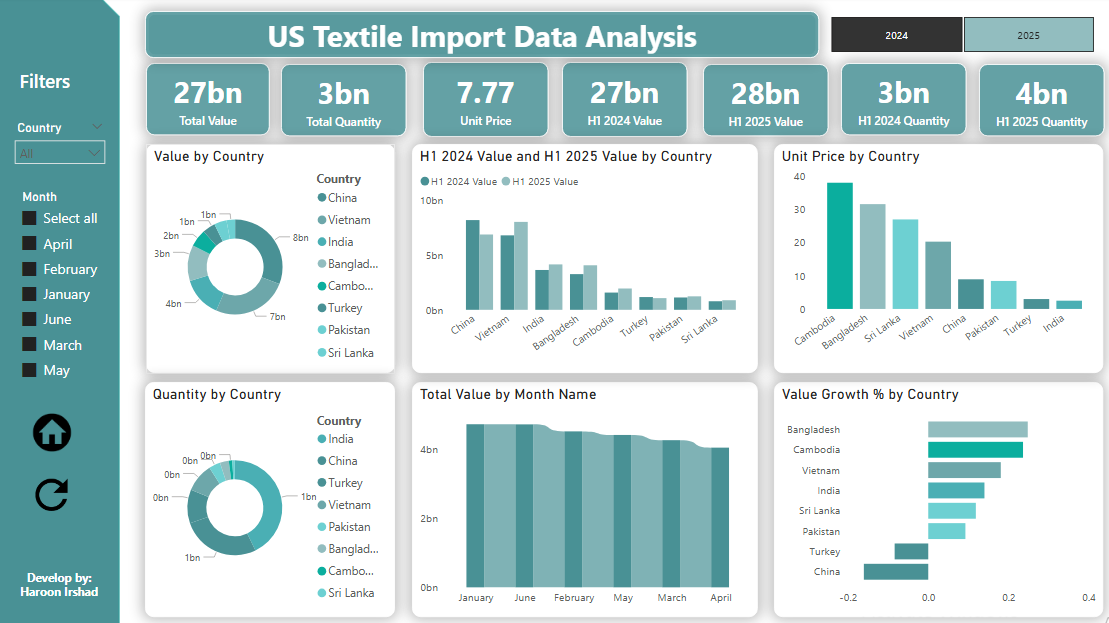

The page's visual inventory and layout, read from the dashboard file:
{"tool":"powerbi","page":{"name":"Page 1","canvas":[1280,720],"ordinal":0},"visuals":[{"type":"card","fields":{"Values":["Imports.Total Quantity"]},"box":[322.4,77.3,143.6,83],"z":0},{"type":"card","fields":{"Values":["Imports.Total Value"]},"box":[167.6,75.7,142,83],"z":1000},{"type":"card","fields":{"Values":["Imports.Unit Price"]},"box":[485.2,74.1,143.6,86.2],"z":2000},{"type":"card","fields":{"Values":["Imports.H1 2024 Value"]},"box":[645.7,74.1,143.6,86.2],"z":3000},{"type":"card","fields":{"Values":["Imports.H1 2025 Value"]},"box":[807.6,77.3,143.6,83],"z":4000},{"type":"card","fields":{"Values":["Imports.H1 2024 Quantity"]},"box":[965.6,75.7,143.6,83],"z":5000},{"type":"card","fields":{"Values":["Imports.H1 2025 Quantity"]},"box":[1123.6,77.3,143.6,83],"z":6000},{"type":"ribbonChart","fields":{"Category":["Imports.Month Name"],"Y":["All_Measure.Total Value"]},"box":[472.4,442.1,397.4,269.7],"z":7000},{"type":"clusteredColumnChart","fields":{"Y":["Imports.H1 2024 Value","Imports.H1 2025 Value"],"Category":["Imports.Country"]},"box":[472.4,169.2,397.4,263.3],"z":8000},{"type":"barChart","fields":{"Y":["All_Measure.Value Growth %"],"Category":["Imports.Country"]},"box":[889,442.1,378.3,269.7],"z":9000},{"type":"clusteredColumnChart","fields":{"Category":["Imports.Country"],"Y":["All_Measure.Unit Price"]},"box":[889,169.2,378.3,263.3],"z":10000},{"type":"donutChart","title":"Value by Country","fields":{"Category":["Imports.Country"],"Y":["All_Measure.Total Value"]},"box":[167.6,169.2,285.7,263.3],"z":11000},{"type":"donutChart","title":"Quantity by Country","fields":{"Category":["Imports.Country"],"Y":["All_Measure.Total Quantity"]},"box":[166,442.1,287.3,269.7],"z":12000},{"type":"slicer","fields":{"Values":["Imports.Month Name"]},"box":[12.6,215.8,105.6,244.5],"z":13000},{"type":"slicer","fields":{"Values":["Imports.Country"]},"box":[6.9,136.6,124,73.5],"z":14000},{"type":"slicer","fields":{"Values":["Imports.Year"]},"box":[928.9,16,351.1,54.3],"z":15000},{"type":"textbox","box":[17.2,76.9,113.7,41.3],"z":16000},{"type":"image","box":[28.7,464.9,62,70],"z":17000},{"type":"image","box":[35.6,543,47.1,57.4],"z":18000},{"type":"shape","box":[166.4,15.9,774.1,54.2],"z":18001},{"type":"shape","box":[17.2,629.1,101,90.7],"z":18002}]}

Visuals, with their boxes in screenshot pixels (x1, y1, x2, y2), scaled from the page's 1280x720 canvas onto the 1109x623 screenshot:
card - Imports.Total Quantity: locate(279, 67, 404, 139)
card - Imports.Total Value: locate(145, 66, 268, 137)
card - Imports.Unit Price: locate(420, 64, 545, 139)
card - Imports.H1 2024 Value: locate(559, 64, 684, 139)
card - Imports.H1 2025 Value: locate(700, 67, 824, 139)
card - Imports.H1 2024 Quantity: locate(837, 66, 961, 137)
card - Imports.H1 2025 Quantity: locate(973, 67, 1098, 139)
ribbonChart - Imports.Month Name x All_Measure.Total Value: locate(409, 383, 754, 616)
clusteredColumnChart - Imports.H1 2024 Value x Imports.H1 2025 Value: locate(409, 146, 754, 374)
barChart - All_Measure.Value Growth % x Imports.Country: locate(770, 383, 1098, 616)
clusteredColumnChart - Imports.Country x All_Measure.Unit Price: locate(770, 146, 1098, 374)
"Value by Country" donutChart: locate(145, 146, 393, 374)
"Quantity by Country" donutChart: locate(144, 383, 393, 616)
slicer - Imports.Month Name: locate(11, 187, 102, 398)
slicer - Imports.Country: locate(6, 118, 113, 182)
slicer - Imports.Year: locate(805, 14, 1108, 61)
textbox: locate(15, 67, 113, 102)
image: locate(25, 402, 79, 463)
image: locate(31, 470, 72, 520)
shape: locate(144, 14, 815, 61)
shape: locate(15, 544, 102, 622)
